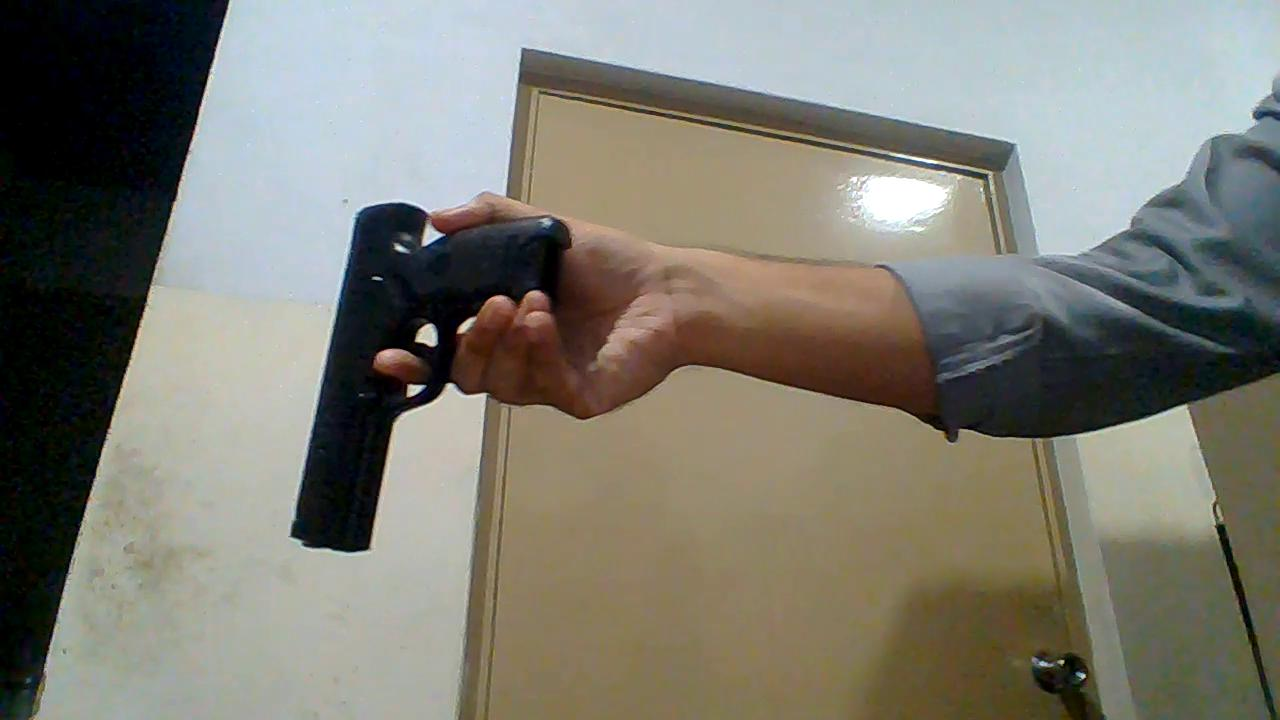weapon: (287, 200, 577, 555)
